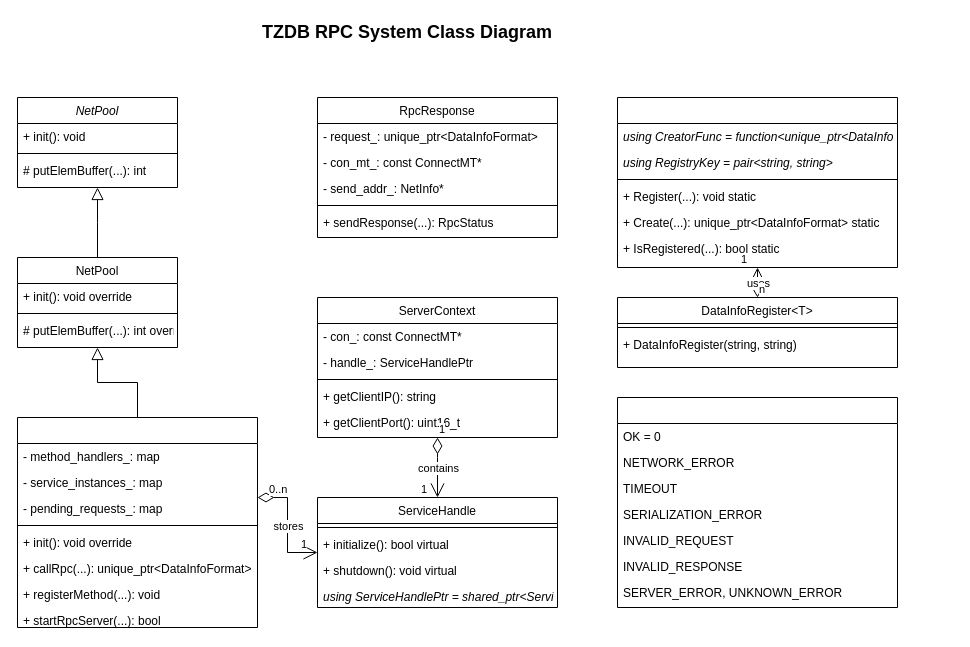
The diagram is 970 pixels wide and 647 high, and some of its shapes have lost their labels. The shapes that lost their labels are listed below. From the top down, each one's box as (x1, y1, x2, y2) in pixels, then its label:
(616, 96, 898, 268): DataInfoRegistry
(16, 416, 258, 628): NetPoolRpc
(616, 396, 898, 608): RpcStatus
